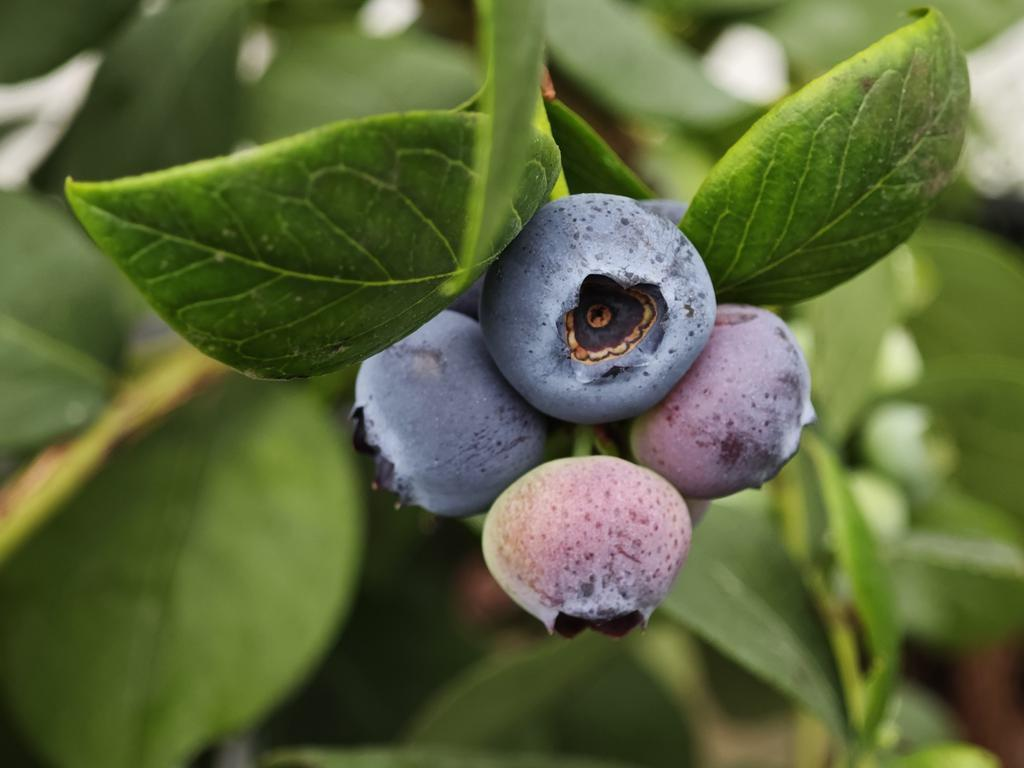RipeBlueBerry: (479, 189, 722, 422), (352, 305, 553, 520)
Semi-RipeBlueBerry: (479, 453, 695, 638), (632, 303, 819, 499)
